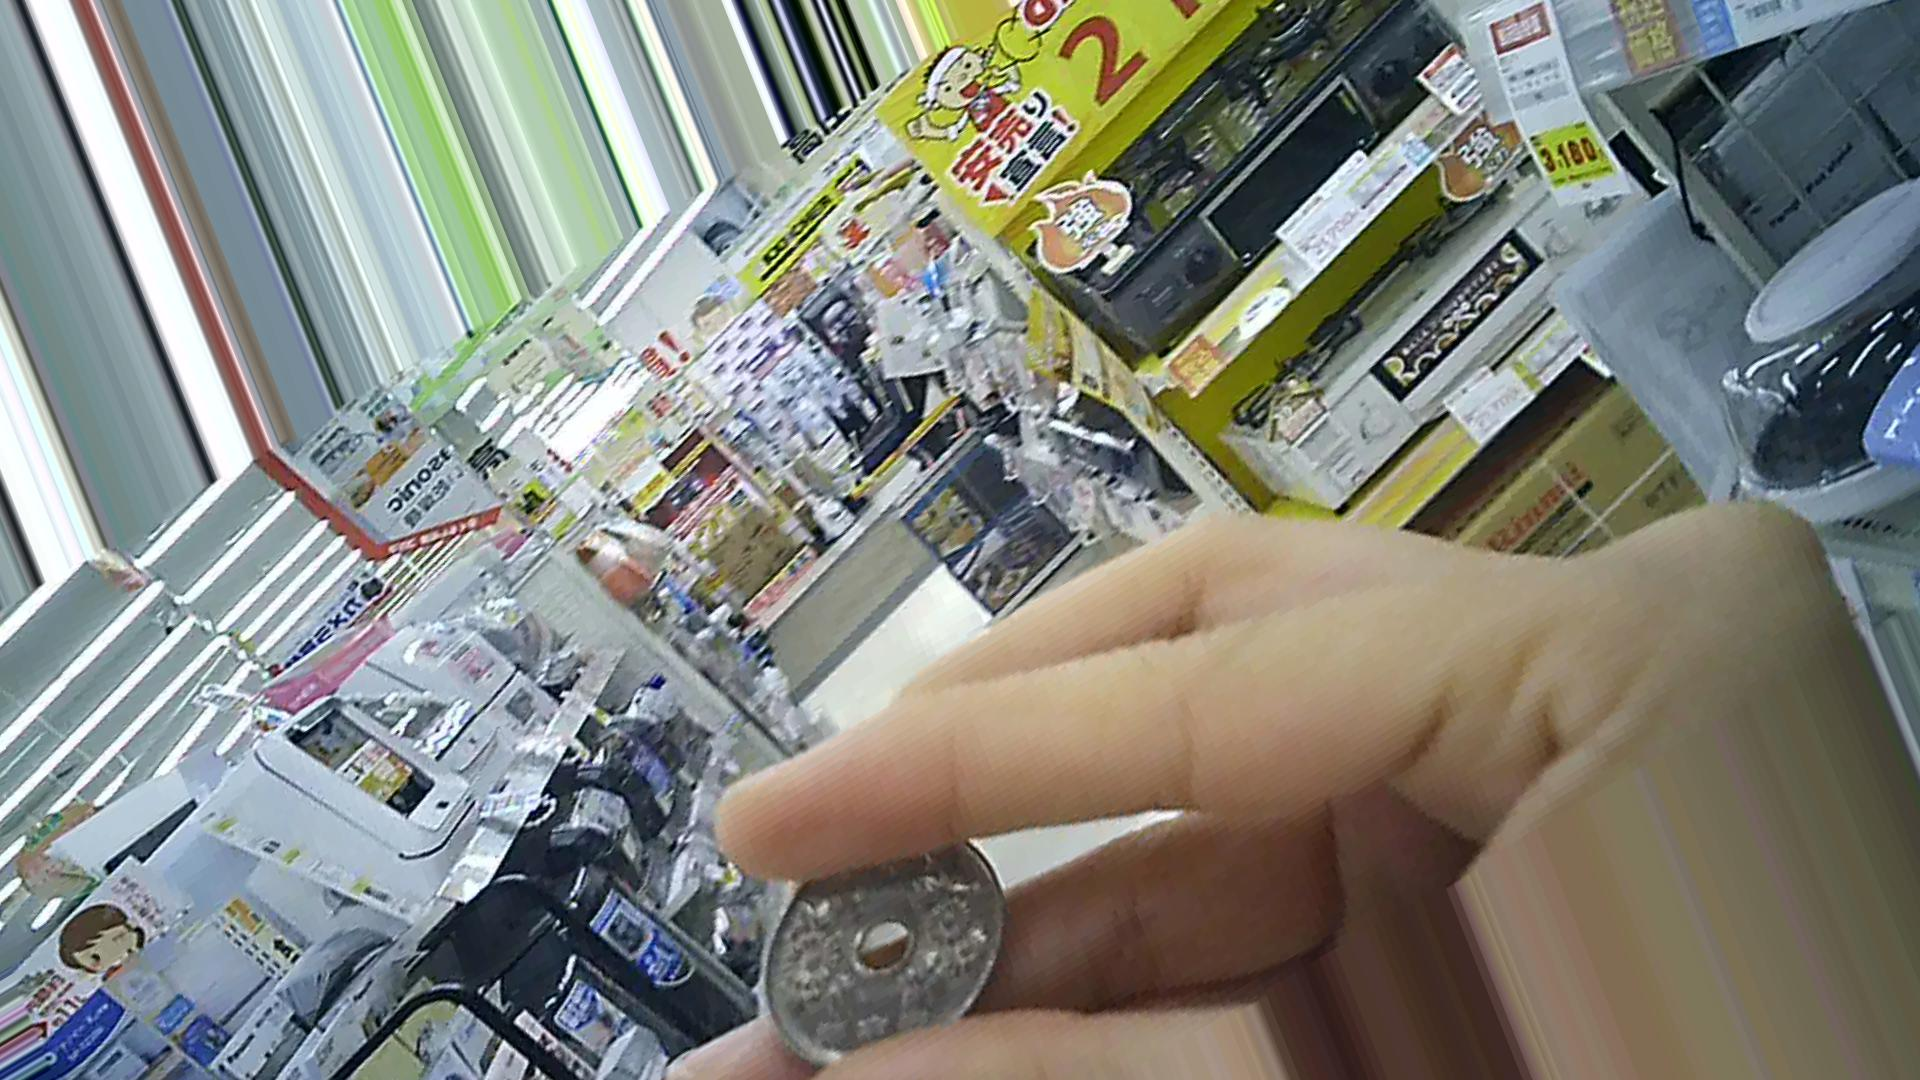50 Yen: (725, 833, 1007, 1056)
